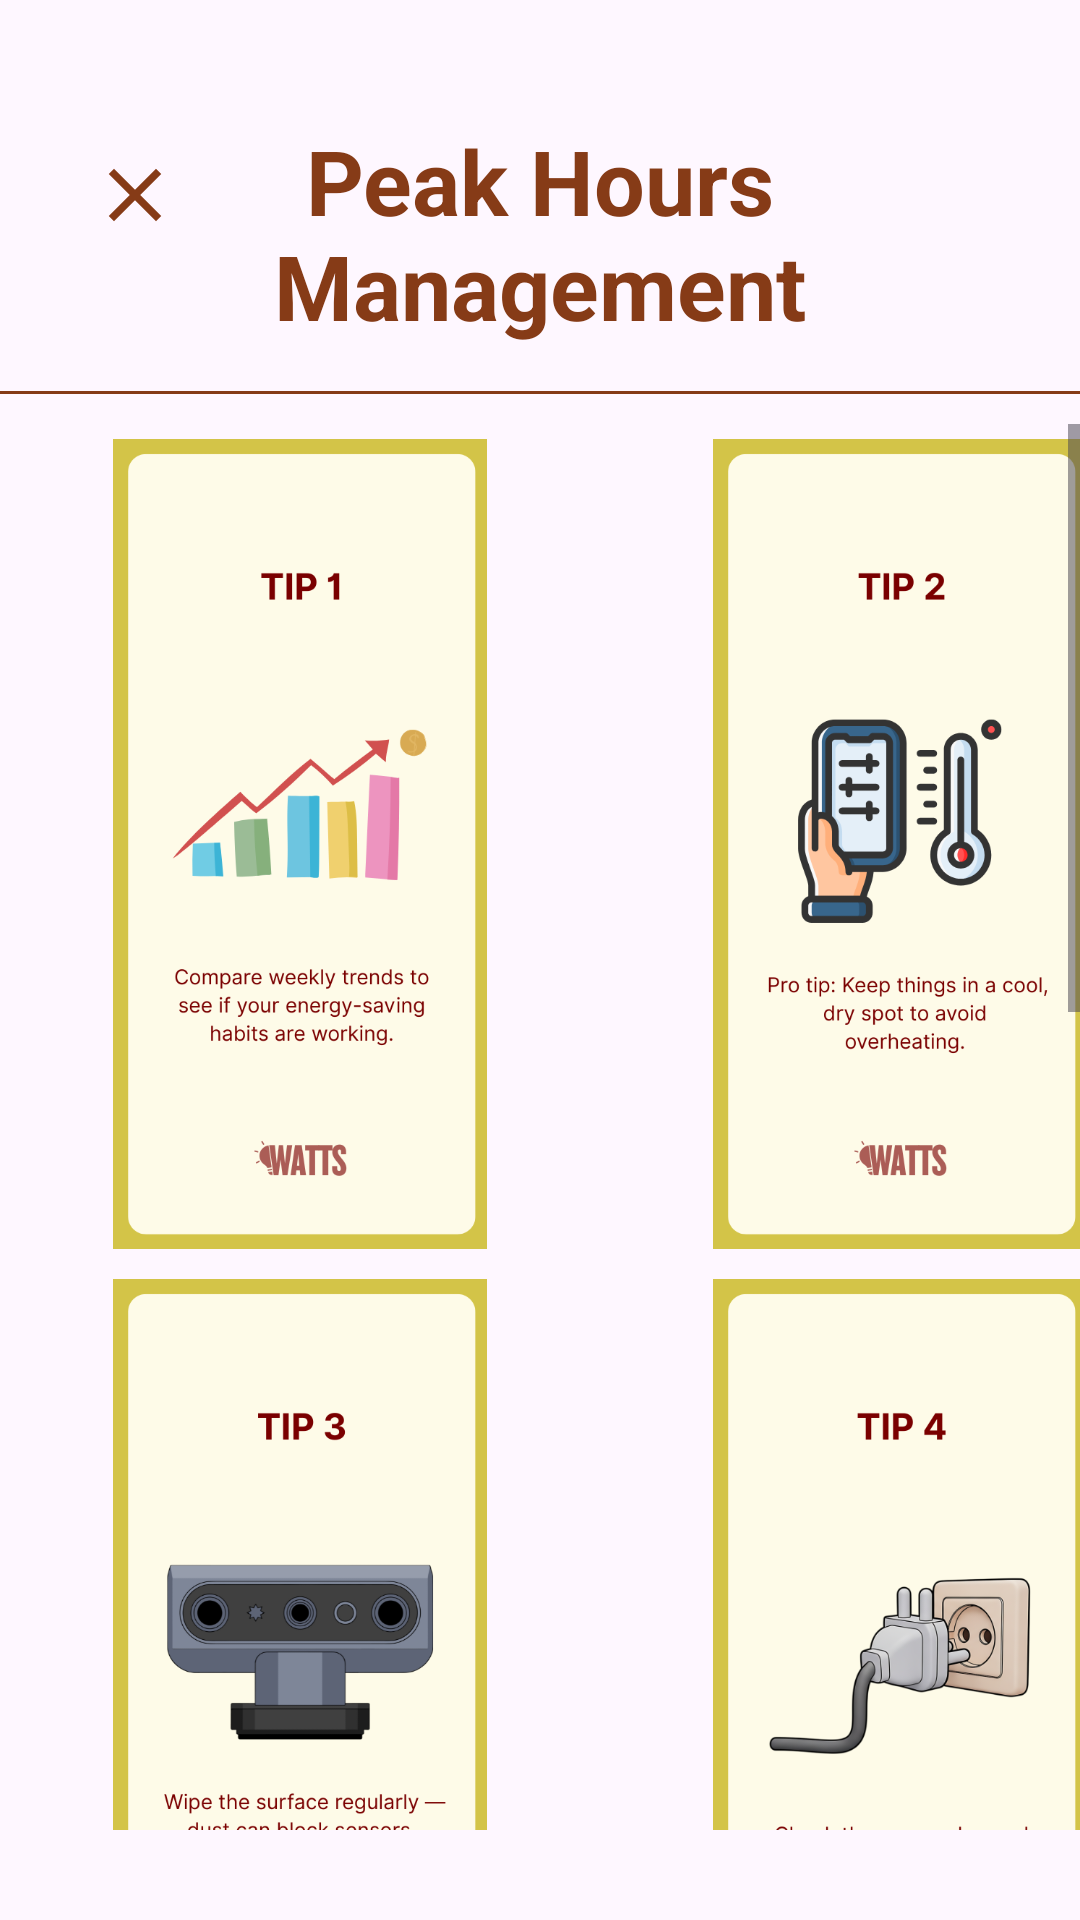

Where icons sit on this 1080px×1920px app screen, as rect(x1, y1, x2, y2):
close: rect(109, 169, 161, 221)
